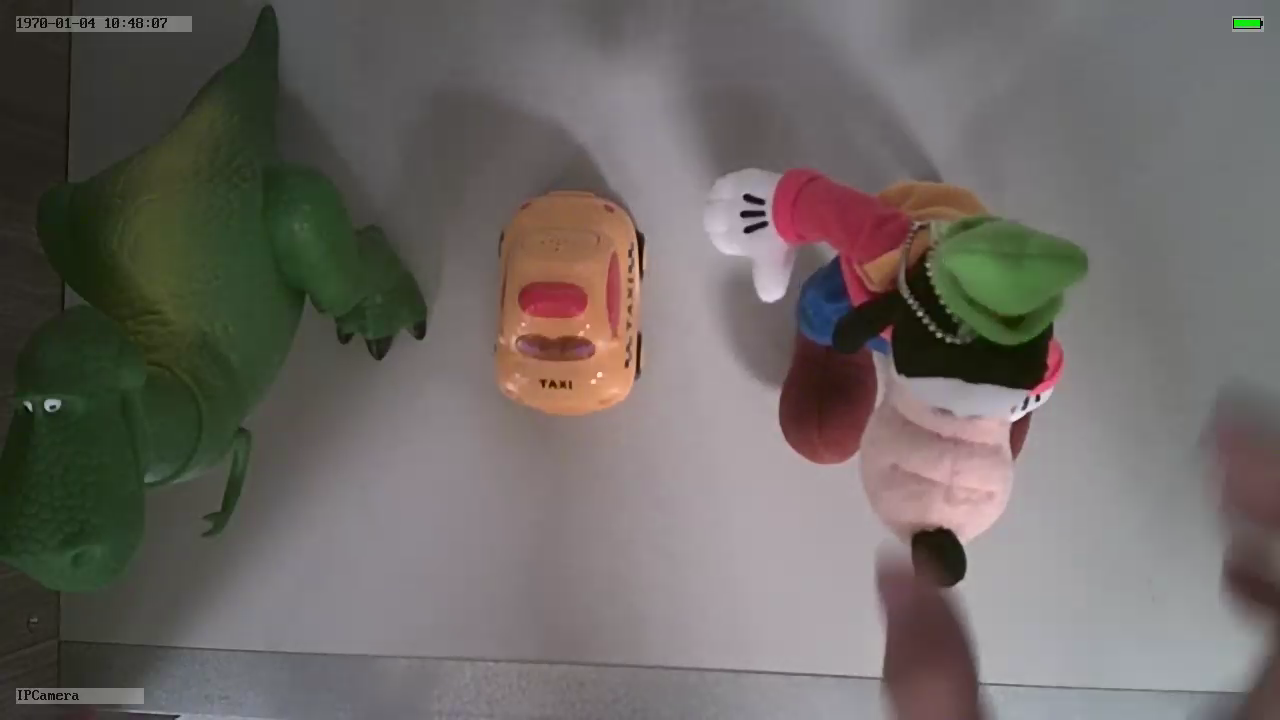goofy: (701, 164, 1090, 593)
